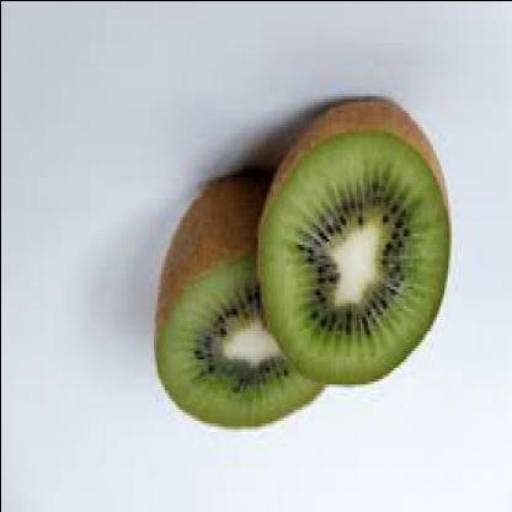biodegradable: (253, 98, 447, 389), (152, 176, 322, 434)
